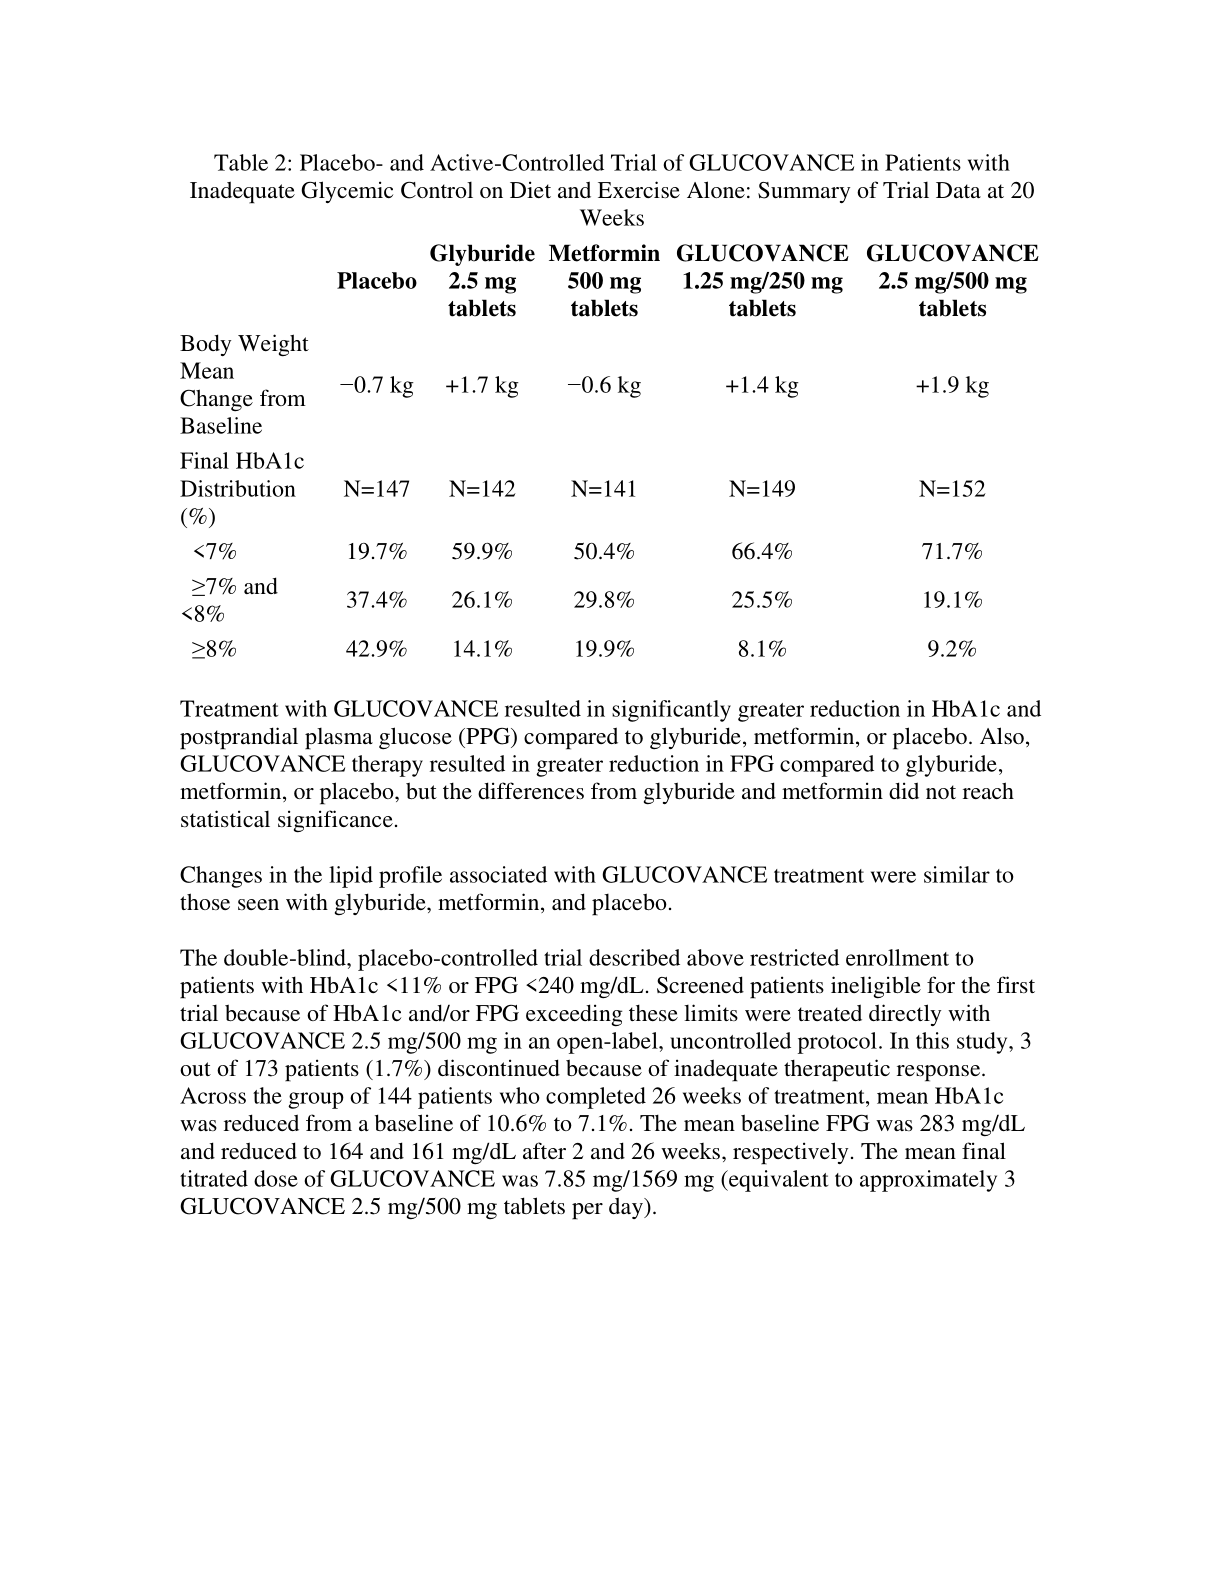nolines: (175, 239, 1041, 662)
